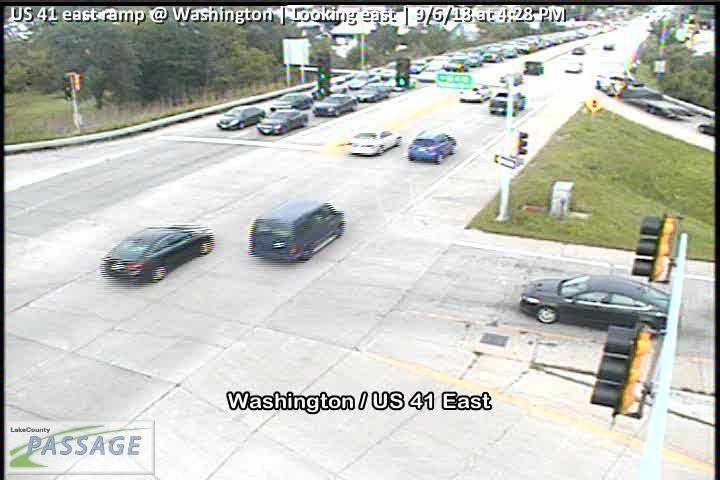SUV: (247, 199, 346, 262), (407, 130, 456, 163), (487, 91, 527, 116)
Sedan: (516, 272, 679, 332), (103, 226, 215, 282), (349, 127, 403, 158), (255, 109, 309, 135), (215, 106, 267, 129), (312, 93, 358, 117), (268, 93, 315, 113), (354, 81, 392, 103), (458, 82, 491, 104), (346, 71, 380, 90), (441, 52, 470, 71), (482, 45, 504, 62), (464, 50, 482, 66)
